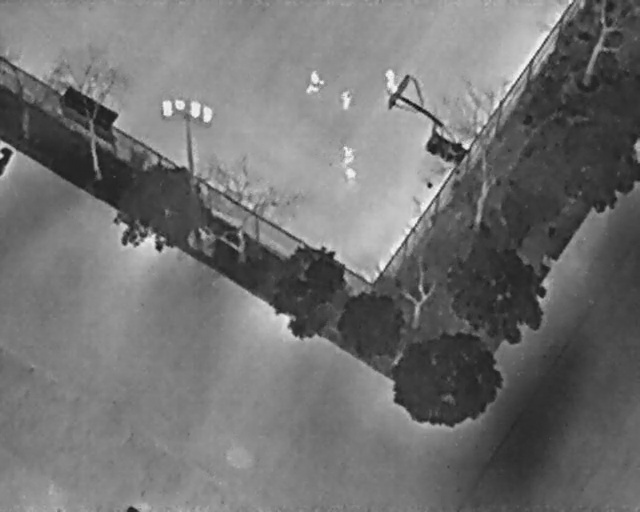Person: (304, 70, 324, 94), (338, 88, 352, 111), (383, 66, 395, 92), (342, 144, 354, 166), (345, 165, 357, 182)
